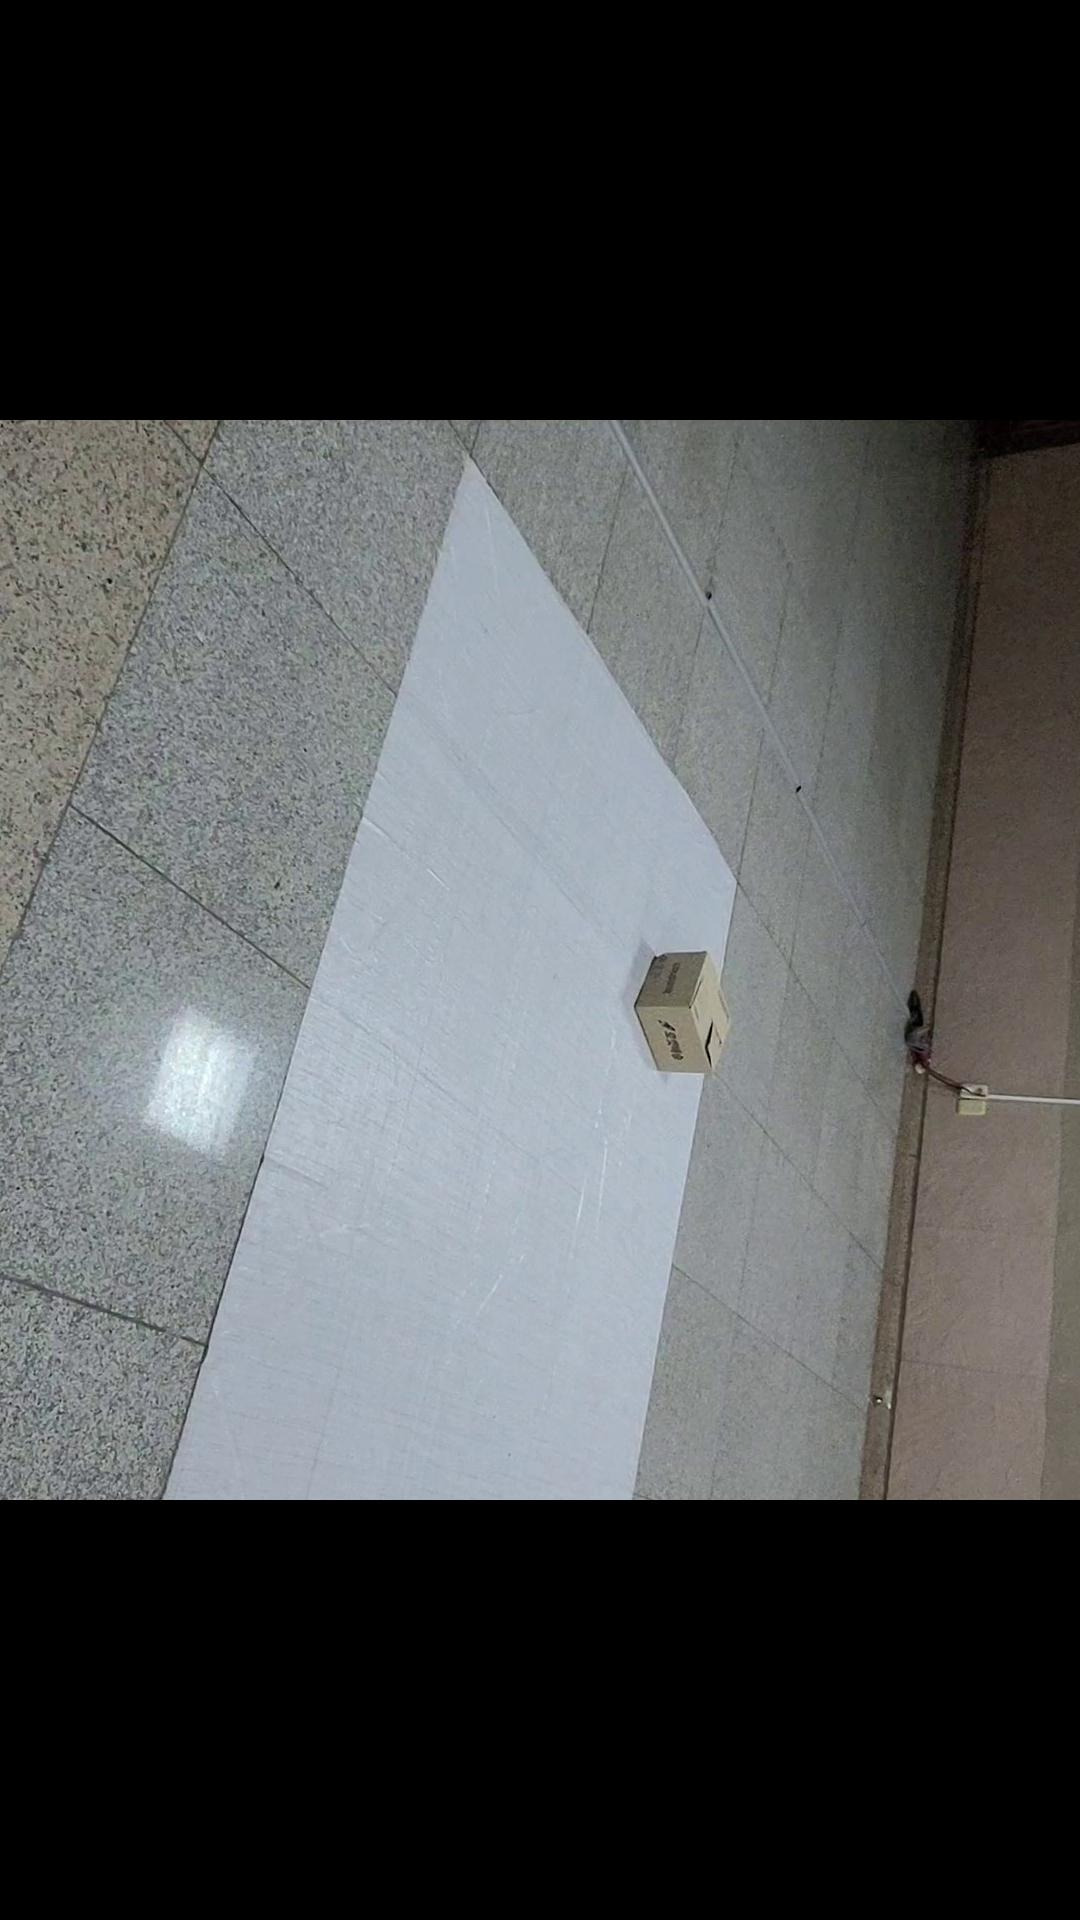Box: (595, 918, 757, 1114)
